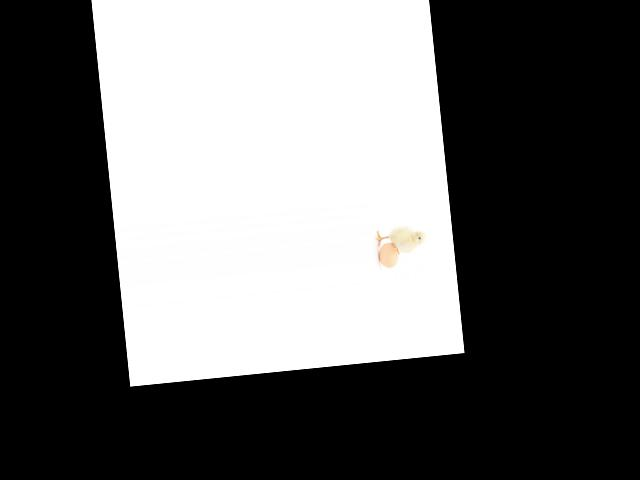egg: (377, 241, 399, 268)
